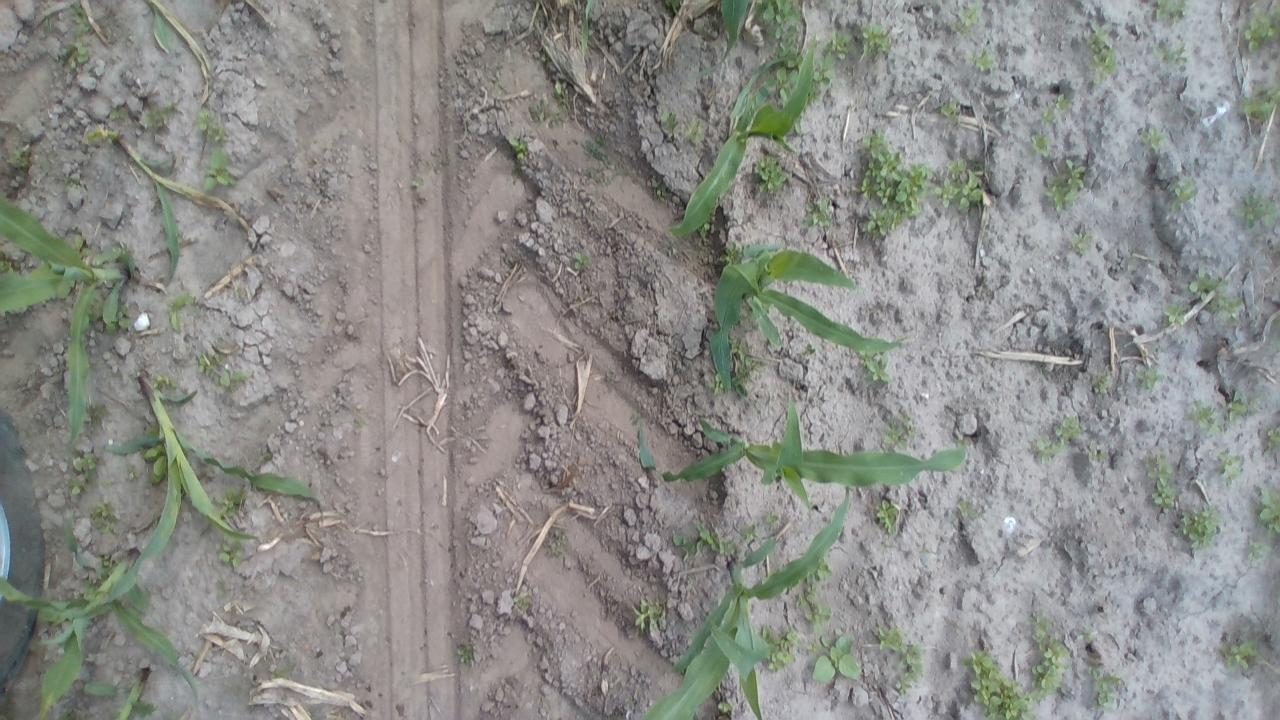Maize: (75, 362, 332, 598), (640, 485, 850, 720), (632, 388, 974, 518), (0, 520, 196, 714), (704, 238, 916, 412), (0, 192, 137, 452), (668, 39, 822, 244), (85, 124, 200, 284), (696, 0, 754, 83), (84, 662, 154, 720), (142, 0, 178, 57), (578, 0, 598, 64)
Weeds: (852, 122, 931, 240), (961, 644, 1027, 720), (872, 625, 924, 700), (931, 154, 988, 219), (756, 0, 800, 82), (1030, 612, 1069, 698), (1041, 157, 1088, 219), (1031, 91, 1071, 159), (1030, 413, 1082, 465), (1082, 15, 1120, 84), (580, 131, 624, 190), (668, 526, 736, 564), (813, 633, 861, 686), (727, 336, 766, 401), (1176, 503, 1224, 554), (526, 78, 573, 128), (1239, 0, 1280, 55), (794, 572, 834, 628), (195, 348, 248, 390), (1143, 446, 1178, 509), (759, 624, 801, 676), (811, 34, 850, 89), (1232, 187, 1280, 231), (753, 152, 793, 200), (202, 146, 239, 194), (1087, 660, 1124, 708), (1237, 82, 1280, 122), (1181, 398, 1220, 439), (1149, 36, 1193, 72), (1218, 634, 1258, 672), (878, 414, 918, 452), (945, 0, 983, 40), (628, 594, 662, 638), (799, 195, 837, 234), (1183, 261, 1219, 302), (190, 106, 230, 142), (164, 292, 198, 334), (506, 132, 532, 186), (1169, 171, 1202, 213), (86, 498, 122, 536), (857, 350, 895, 386), (857, 22, 893, 59), (1215, 446, 1244, 491), (136, 99, 178, 130), (1204, 291, 1241, 326), (1220, 392, 1250, 433), (1256, 486, 1280, 536), (873, 493, 901, 535), (144, 444, 168, 488), (212, 484, 245, 516), (1134, 360, 1167, 392), (1151, 0, 1188, 28), (1136, 122, 1166, 156), (1068, 227, 1098, 258), (450, 641, 480, 671), (963, 47, 998, 72), (2, 144, 30, 174), (104, 306, 132, 335), (1259, 423, 1280, 461), (218, 540, 246, 568), (1158, 299, 1187, 326), (540, 530, 567, 558), (954, 496, 982, 523), (75, 451, 101, 479), (1246, 536, 1272, 564), (70, 1, 92, 34), (268, 660, 298, 684), (60, 40, 91, 63), (1084, 440, 1110, 467), (718, 242, 744, 268), (682, 116, 706, 143), (938, 94, 962, 120), (660, 107, 680, 138), (568, 250, 592, 274), (56, 171, 84, 191), (72, 233, 92, 259), (706, 370, 724, 398), (86, 401, 111, 420), (741, 524, 760, 548), (508, 590, 527, 612), (79, 579, 97, 602), (1091, 374, 1111, 394), (649, 180, 669, 200), (1076, 624, 1094, 646), (152, 375, 178, 390), (815, 560, 833, 580), (134, 702, 156, 718), (694, 224, 712, 242), (764, 507, 781, 526), (108, 105, 126, 122), (227, 284, 244, 302), (1264, 336, 1280, 355), (712, 702, 732, 717), (66, 478, 84, 494), (214, 577, 226, 599), (125, 461, 138, 481), (488, 68, 502, 85), (59, 708, 77, 720), (802, 344, 816, 358), (626, 413, 638, 427), (1271, 314, 1280, 332), (100, 554, 112, 566)
